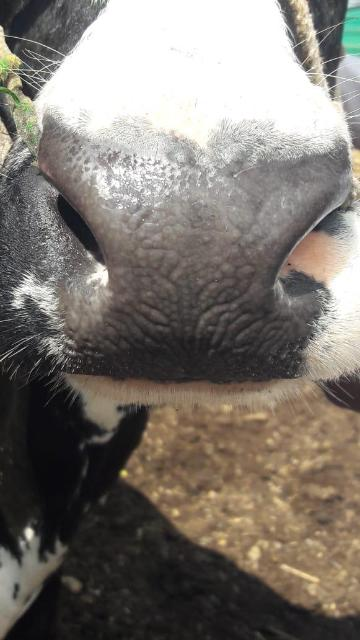Muzzle: (101, 159, 296, 369)
